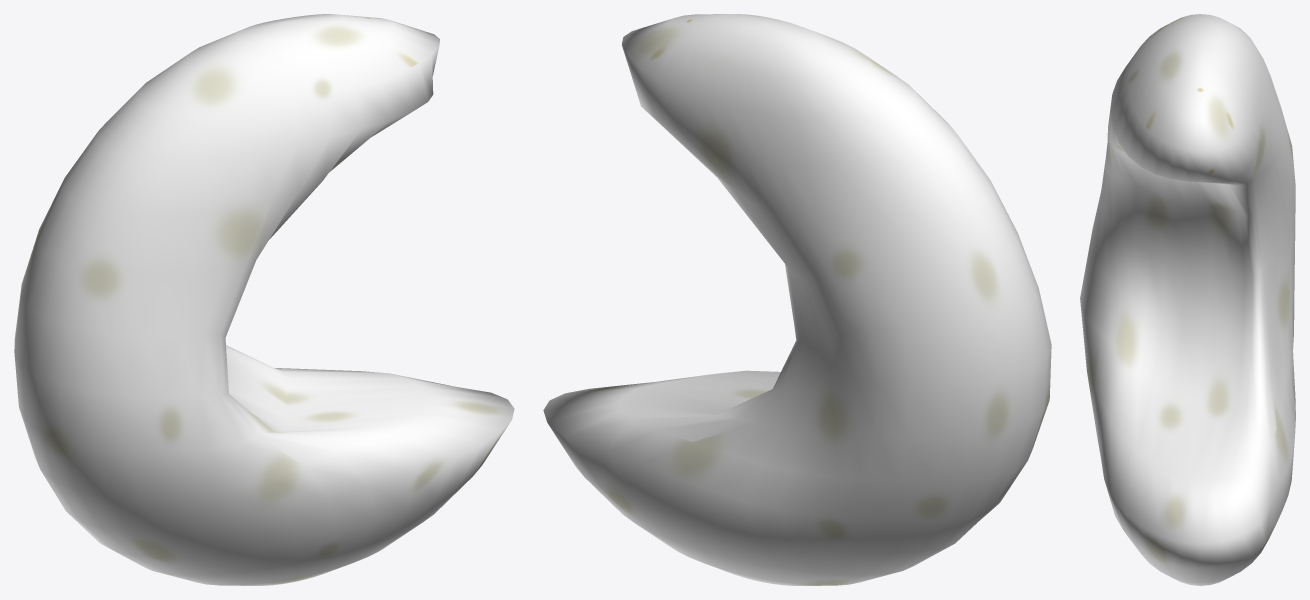
Rendered from luna.fbx.
The picture shows the model from 3 angles, left to right: view 1: azimuth 30°, elevation 25°; view 2: azimuth 150°, elevation 25°; view 3: azimuth 270°, elevation 25°; orthographic projection. The views are drawn at different scales.
Visible parts, largest first — view 1: Sphere.001; view 2: Sphere.001; view 3: Sphere.001.
Part boxes in pixels (box(x1,y1,x2,y2)): Sphere.001: box(14, 14, 514, 585); Sphere.001: box(543, 14, 1051, 585); Sphere.001: box(1080, 14, 1295, 585).
Size of the model in its own units: 184 by 200 by 75.41.
1 material, 1 textured.
